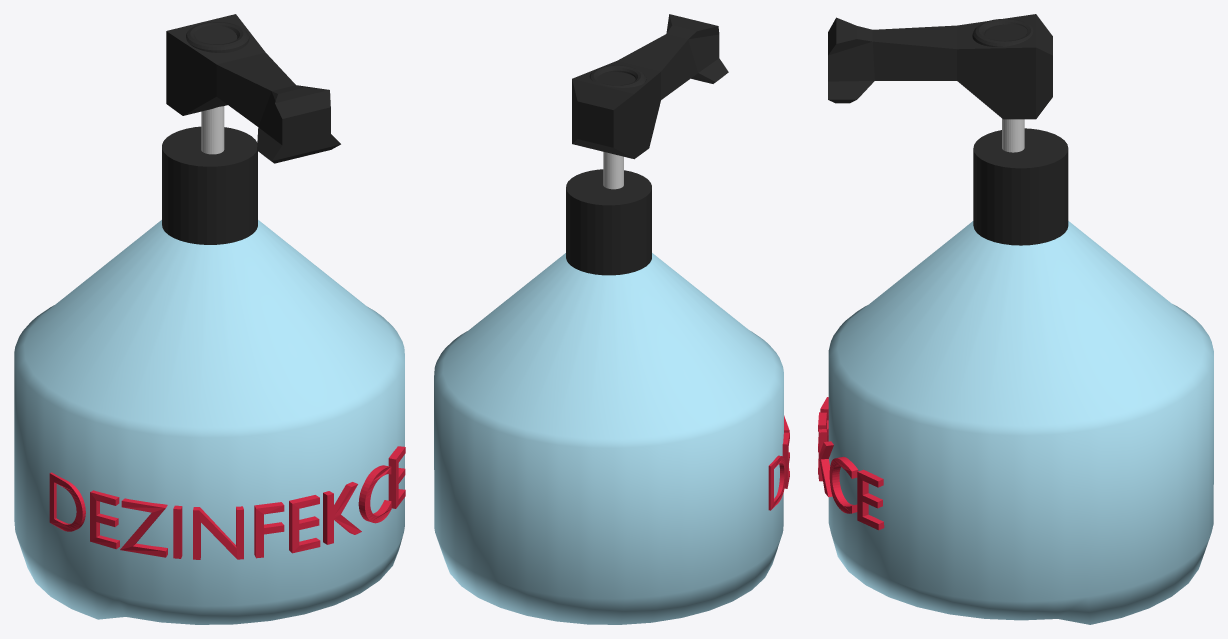
File: dezinfekce_to_unity.fbx
The picture shows the model from 3 angles, left to right: view 1: azimuth 30°, elevation 25°; view 2: azimuth 150°, elevation 25°; view 3: azimuth 270°, elevation 25°; orthographic projection. The views are drawn at different scales.
Parts seen in each view (by area): view 1: Cylinder, Cube, Text.001, Cylinder.001, Cylinder.002, Torus; view 2: Cylinder, Cube, Cylinder.001, Text.001, Cylinder.002, Torus; view 3: Cylinder, Cube, Cylinder.001, Text.001, Torus, Cylinder.002.
Part boxes in pixels (<box>): Cylinder: <box>14,220,404,624</box>; Cube: <box>166,14,340,163</box>; Text.001: <box>49,446,405,559</box>; Cylinder.001: <box>162,126,257,244</box>; Cylinder.002: <box>201,106,224,154</box>; Torus: <box>186,22,249,52</box>; Cylinder: <box>434,253,783,624</box>; Cube: <box>572,14,728,159</box>; Cylinder.001: <box>566,169,651,275</box>; Text.001: <box>768,415,789,510</box>; Cylinder.002: <box>603,152,623,189</box>; Torus: <box>589,65,646,87</box>; Cylinder: <box>828,221,1213,624</box>; Cube: <box>828,14,1052,119</box>; Cylinder.001: <box>973,128,1068,245</box>; Text.001: <box>818,397,884,530</box>; Torus: <box>972,19,1033,46</box>; Cylinder.002: <box>1002,118,1024,152</box>.
Size of the model in its own units: 203 by 302 by 207.
